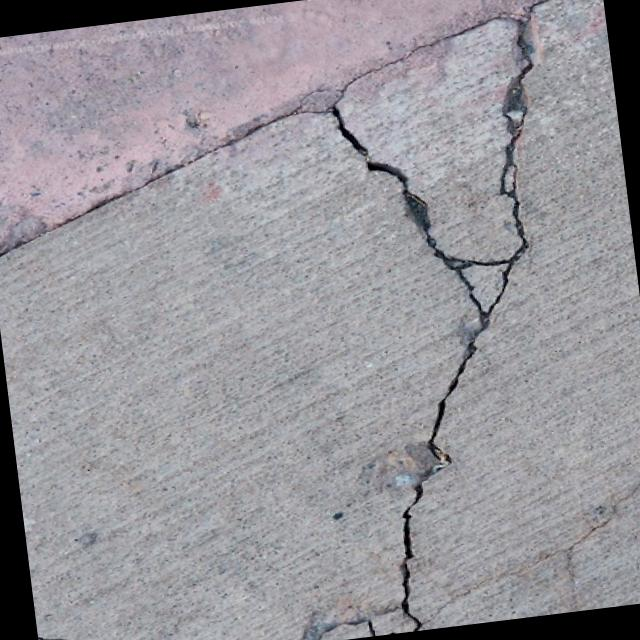crack: (310, 1, 576, 352), (275, 339, 516, 640), (456, 465, 640, 621), (39, 612, 224, 640)
